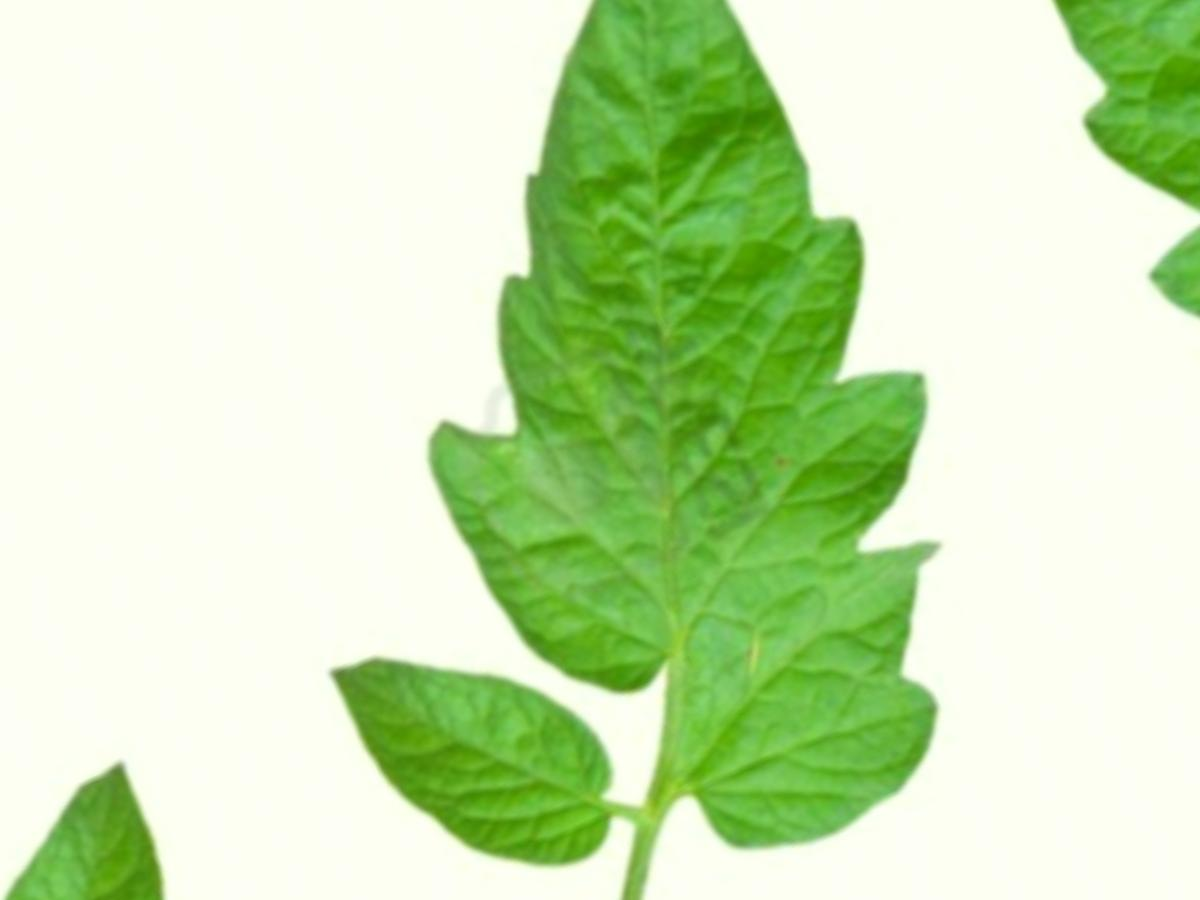Tomato leaf: (229, 0, 1136, 900), (280, 544, 643, 900)
